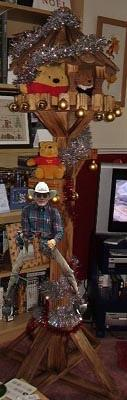tampered: (3, 183, 87, 316)
